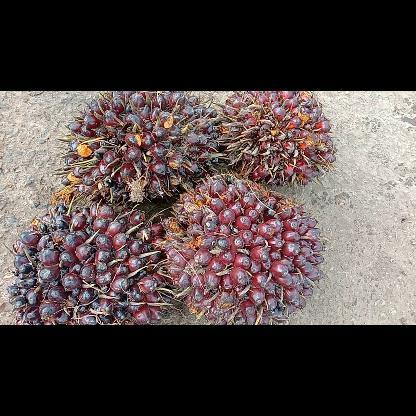Kurang masak: (6, 200, 170, 324), (57, 91, 224, 205), (213, 90, 340, 188)
TBS masak: (158, 170, 328, 324)
